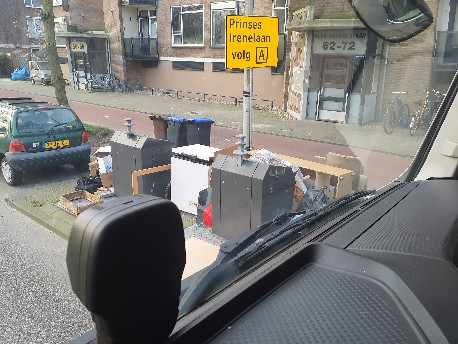Container: (209, 146, 283, 229), (116, 134, 159, 201)
Rest: (293, 157, 349, 212), (176, 141, 223, 202), (97, 143, 115, 197), (71, 188, 100, 214)
Voertuig: (9, 91, 92, 170)
